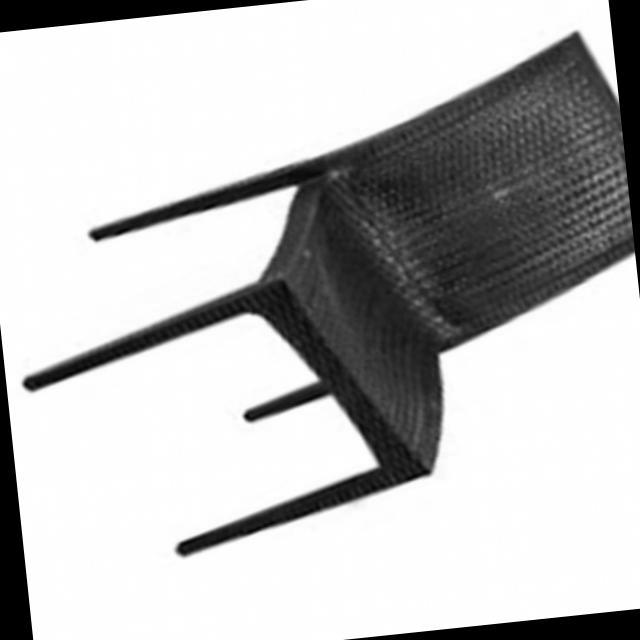chair: (0, 25, 640, 573)
